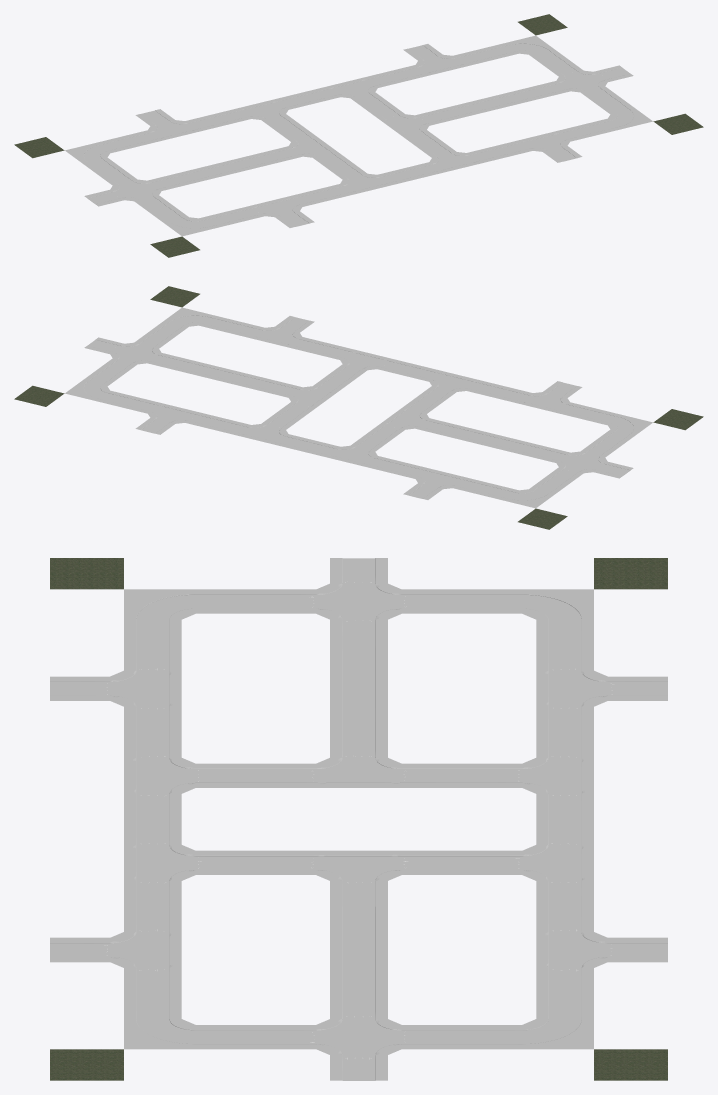
Rendered from Double-Block-01.fbx.
3 renders of one model, top to bottom at view 1: azimuth 30°, elevation 25°; view 2: azimuth 150°, elevation 25°; view 3: azimuth 270°, elevation 25°, orthographic. The views are drawn at different scales.
Visible parts, largest first — view 1: Double-Block-01-B, Double-Block-01, Double-Block-01-Sidewalk-B, Double-Block-01-Sidewalk; view 2: Double-Block-01, Double-Block-01-B, Double-Block-01-Sidewalk, Double-Block-01-Sidewalk-B; view 3: Double-Block-01, Double-Block-01-B, Double-Block-01-Sidewalk, Double-Block-01-Sidewalk-B.
Boxes of the visible parts, left/top/right/bottom form: Double-Block-01-B: left=303, top=14, right=703, bottom=176; Double-Block-01: left=14, top=95, right=414, bottom=257; Double-Block-01-Sidewalk-B: left=301, top=35, right=652, bottom=178; Double-Block-01-Sidewalk: left=65, top=93, right=417, bottom=236; Double-Block-01: left=303, top=367, right=703, bottom=529; Double-Block-01-B: left=14, top=286, right=414, bottom=448; Double-Block-01-Sidewalk: left=300, top=365, right=652, bottom=508; Double-Block-01-Sidewalk-B: left=65, top=307, right=416, bottom=450; Double-Block-01: left=50, top=558, right=667, bottom=819; Double-Block-01-B: left=50, top=819, right=667, bottom=1080; Double-Block-01-Sidewalk: left=50, top=558, right=667, bottom=819; Double-Block-01-Sidewalk-B: left=50, top=819, right=667, bottom=1080.
Size of what is drawn, in the model's own units: 600 by 0.1513 by 300.
